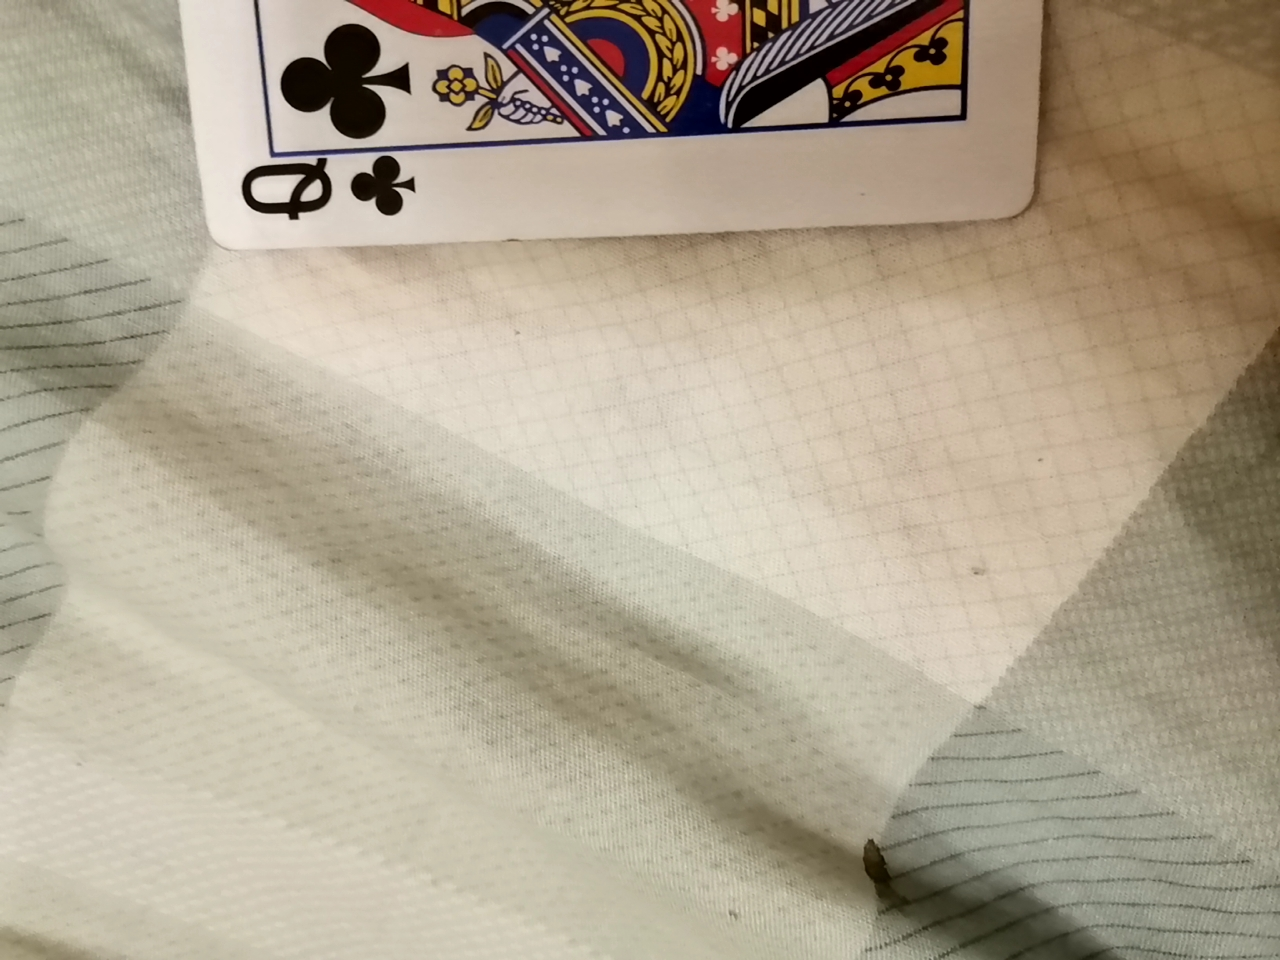mh q: (154, 0, 1046, 246)
